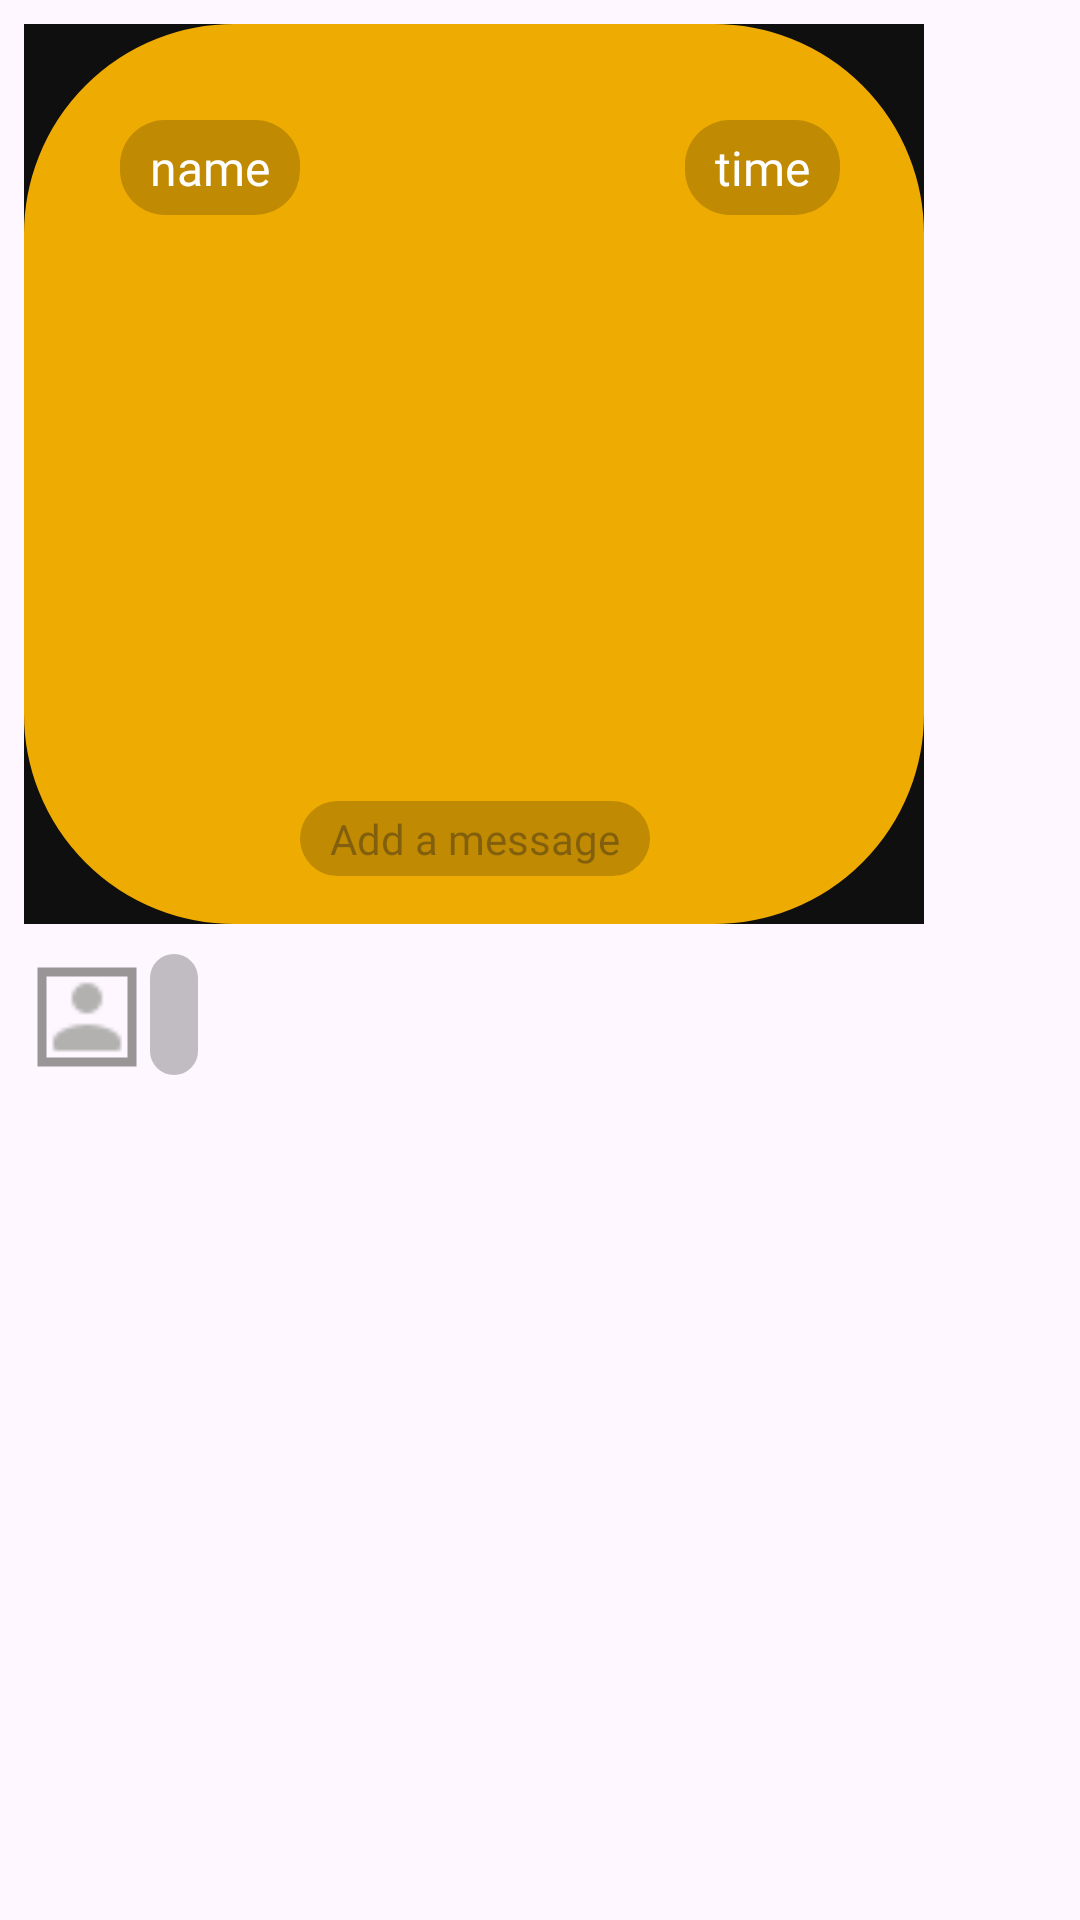

Icon click points for this 1080px x 1920px phone screenshot, format (x=x, y=y):
userintr: (x=87, y=1017)
